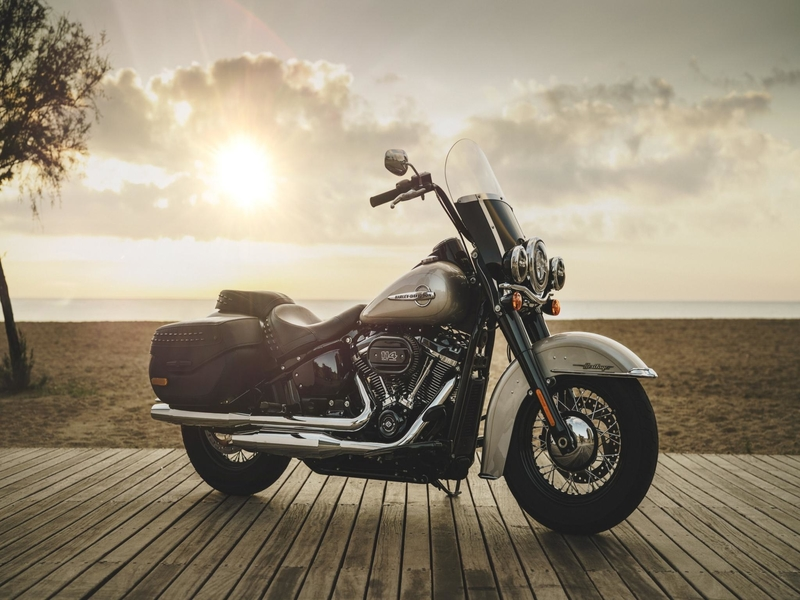motorcycle: (146, 135, 657, 535), (146, 135, 657, 535)
